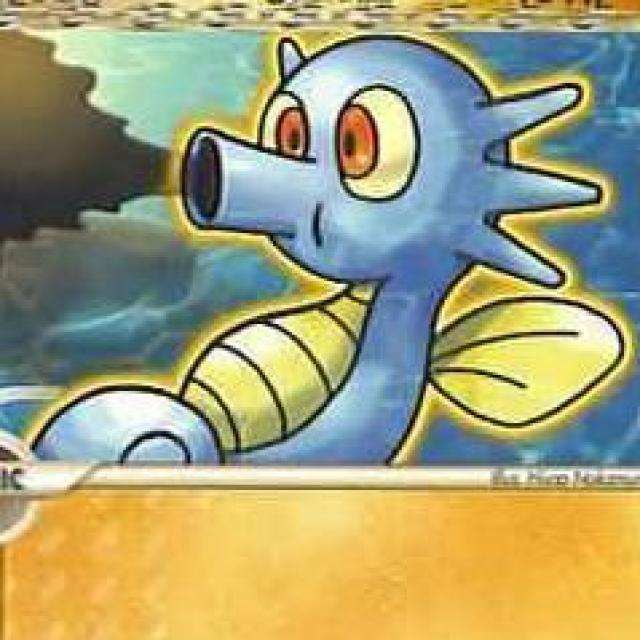Horsea: (79, 36, 640, 471)
